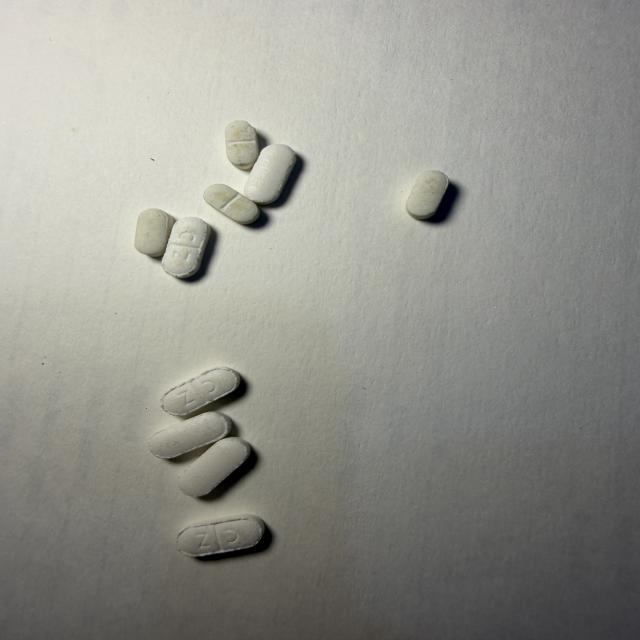pill: (179, 437, 250, 496), (161, 367, 240, 415), (149, 412, 231, 458), (177, 515, 264, 556), (244, 144, 296, 204), (162, 217, 210, 278), (204, 184, 259, 224), (406, 171, 448, 219), (135, 209, 174, 256), (225, 121, 259, 169)
